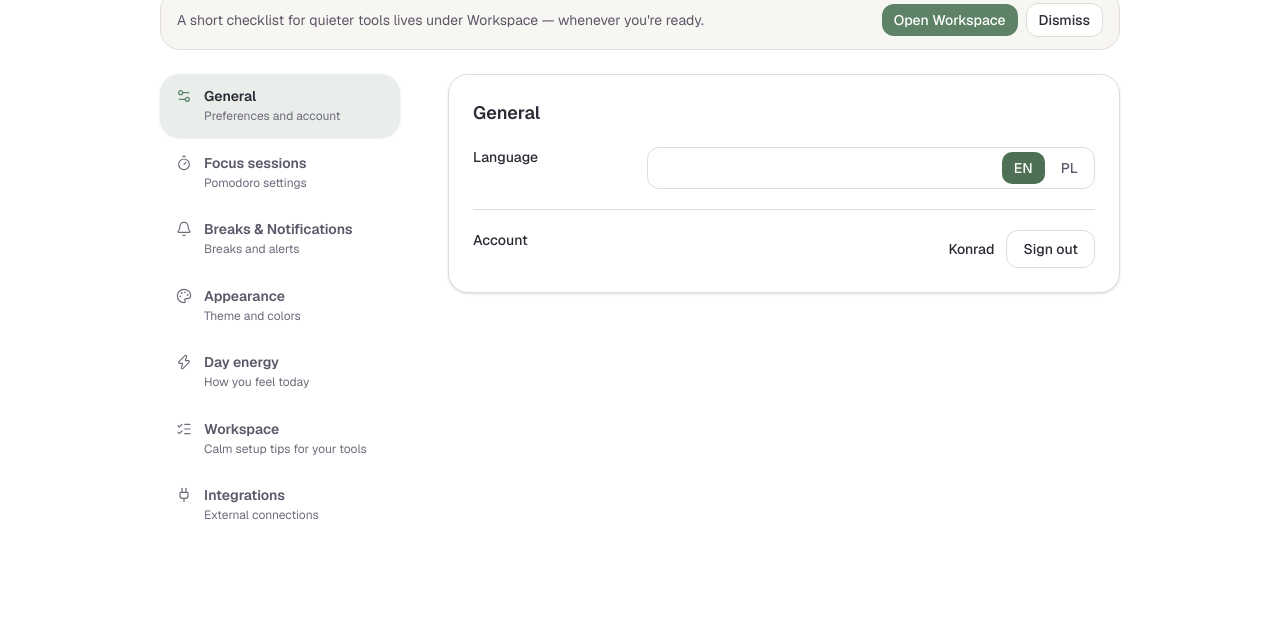
Test case: UstawieniaView › shows MCP setup instructions with the live endpoint for authenticated users
Click the button with test id "settings-tab-integrations".
click(280, 504)  # box [160,473,400,536]
(page scrolled)
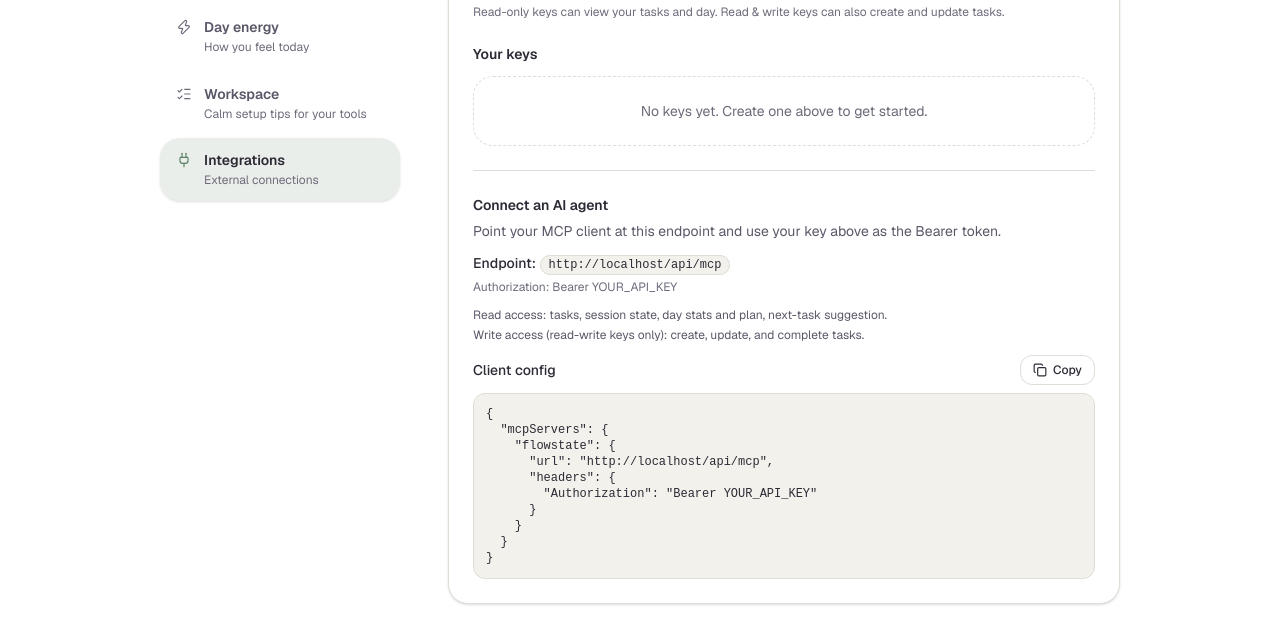
Expected: the element with test id "mcp-setup-section" is shown, [473,170,1095,579]
Expected: the text with test id "mcp-setup-endpoint" shows "/api/mcp", [549,258,721,272]
Expected: the element with test id "mcp-setup-config" shows "/api/mcp", [486,407,817,565]
